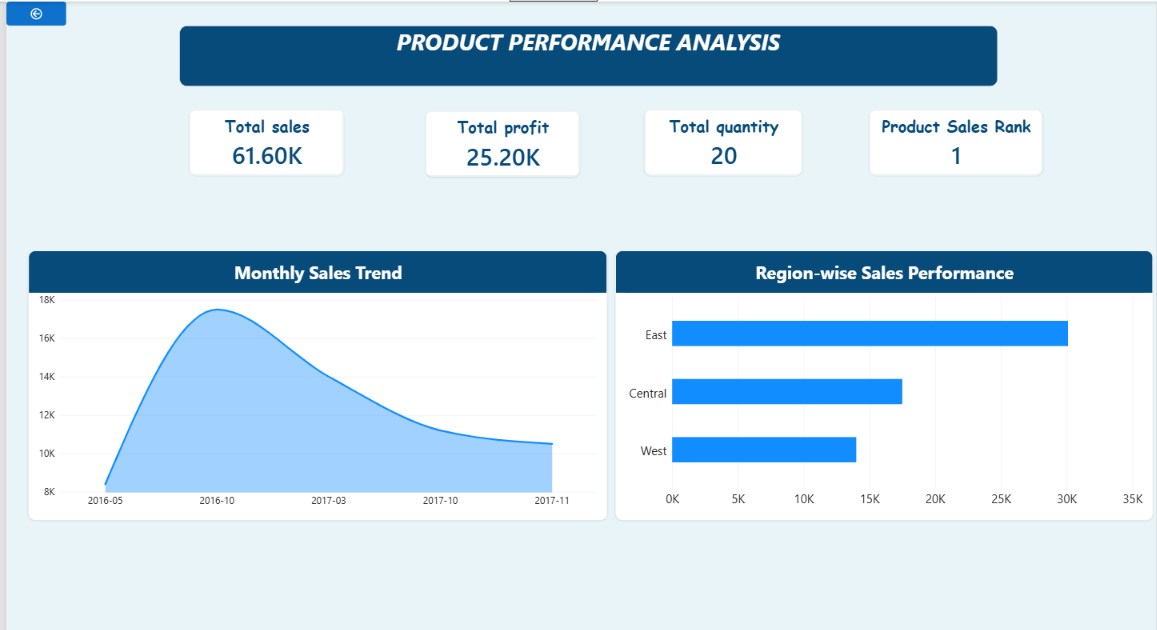

Layout of this report page (visuals, bound fields, positions):
{"tool":"powerbi","page":{"name":"product performance","canvas":[1920,1080],"ordinal":1},"visuals":[{"type":"actionButton","box":[0,0,100,40],"z":0},{"type":"textbox","box":[289.5,39.8,1366.3,101.3],"z":1},{"type":"cardVisual","fields":{"Data":["Superstore.Total sales"]},"box":[305.8,181,258.8,110.4],"z":2},{"type":"cardVisual","fields":{"Data":["Superstore.Total profit"]},"box":[700.3,182.8,258.8,110.4],"z":3},{"type":"cardVisual","fields":{"Data":["Superstore.Total quantity"]},"box":[1065.9,181,264.2,110.4],"z":4},{"type":"cardVisual","fields":{"Data":["Superstore.Product Sales Rank"]},"box":[1440.5,181,289.5,110.4],"z":5},{"type":"lineChart","title":"Monthly Sales Trend","fields":{"Category":["Date Table.Year-Month"],"Y":["Superstore.Total sales"]},"box":[36.2,416.2,966.4,450.6],"z":6},{"type":"clusteredBarChart","title":"Region-wise Sales Performance","fields":{"Category":["Superstore.Region"],"Y":["Superstore.Total sales"]},"box":[1017,416.2,897.6,450.6],"z":7}]}

Visuals, with their boxes on the page's 1920x1080 design canvas (x1, y1, x2, y2). These are canvas units, not pixel positions in the 1157x630 screenshot, which may show the page scaled, cropped or inside an application window:
actionButton: [x1=0, y1=0, x2=100, y2=40]
textbox: [x1=290, y1=40, x2=1656, y2=141]
cardVisual - Superstore.Total sales: [x1=306, y1=181, x2=565, y2=291]
cardVisual - Superstore.Total profit: [x1=700, y1=183, x2=959, y2=293]
cardVisual - Superstore.Total quantity: [x1=1066, y1=181, x2=1330, y2=291]
cardVisual - Superstore.Product Sales Rank: [x1=1440, y1=181, x2=1730, y2=291]
"Monthly Sales Trend" lineChart: [x1=36, y1=416, x2=1003, y2=867]
"Region-wise Sales Performance" clusteredBarChart: [x1=1017, y1=416, x2=1915, y2=867]
